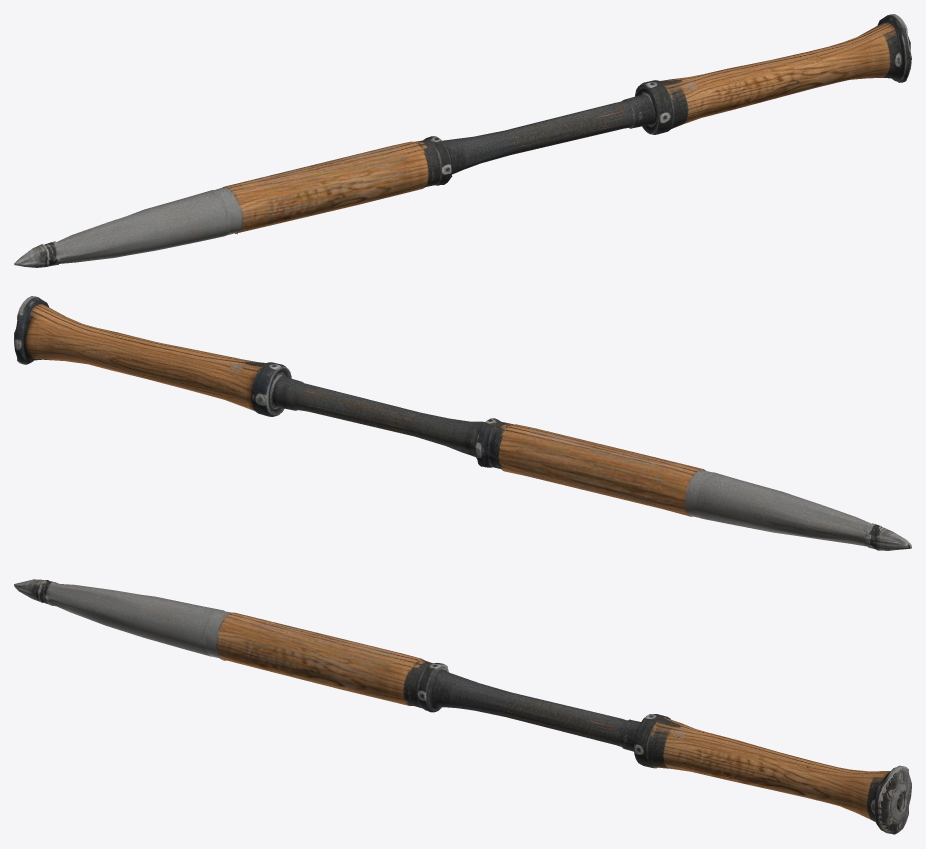
File: wpn_bat_spiked.glb
3 views of the same model, one above another, from view 1: azimuth 30°, elevation 25°; view 2: azimuth 150°, elevation 25°; view 3: azimuth 330°, elevation 25° (orthographic).
Size of the model in its own units: 0.9565 by 0.0659 by 0.061.
1 material, 1 textured.
